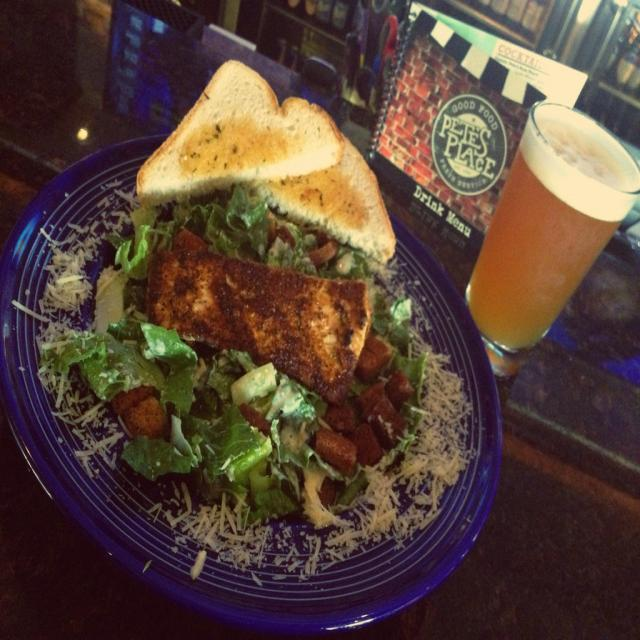Sandwich: (135, 56, 344, 201), (265, 127, 399, 267)
